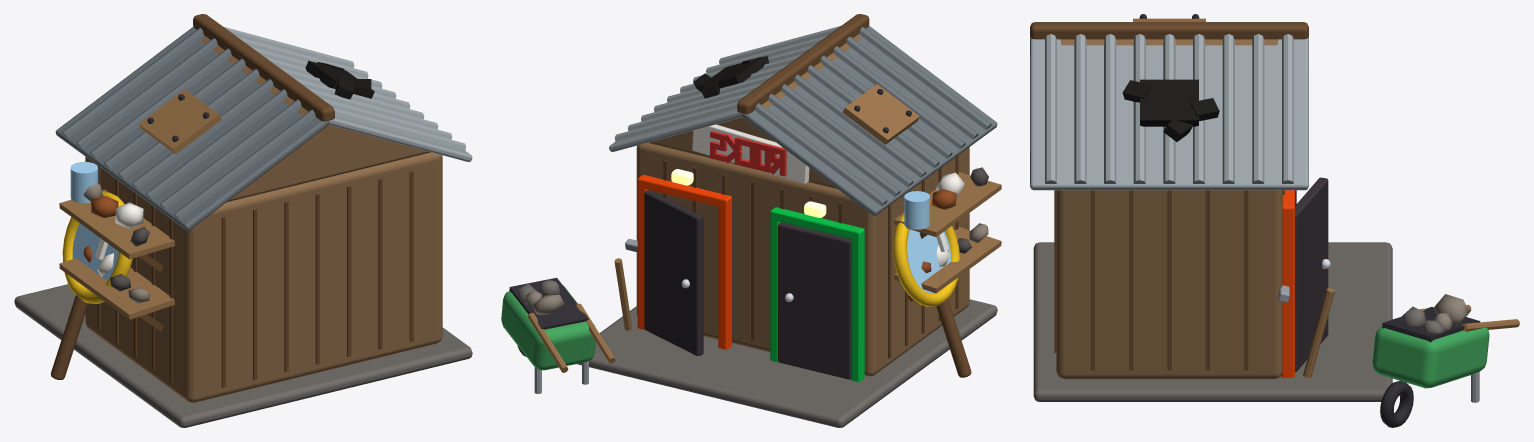
Rendered from building_geology_lab_t1.glb.
3 views of the same model, side by side, from view 1: azimuth 30°, elevation 25°; view 2: azimuth 150°, elevation 25°; view 3: azimuth 270°, elevation 25° (orthographic). The views are drawn at different scales.
Parts seen in each view (by area): view 1: Walls, RoofL.Ridge, RoofL.Sheet, Lot, RoofR.Ridge, Attic, PlanksB.Groove, Roof.Ridge, Patch, Shelf0, Shelf1, PlanksL.Groove (+8 smaller); view 2: Walls, Lot, RoofL.Ridge, RoofL.Sheet, Entry.Leaf, Exit.Leaf, RoofR.Ridge, Barrow.Tub, Roof.Ridge, Patch, Entry.Jamb, Exit.Jamb (+20 smaller); view 3: Walls, RoofR.Sheet, Lot, RoofR.Ridge, Barrow.Tub, Exit.Leaf, Roof.Ridge, PlanksR.Groove, Hole, Exit.Jamb.001, Barrow.Wheel.Tyre, Barrow.Inner (+7 smaller).
Part boxes in pixels (bbox=[...]): Walls: bbox=[85, 152, 442, 402]; RoofL.Ridge: bbox=[62, 28, 315, 219]; RoofL.Sheet: bbox=[55, 26, 329, 230]; Lot: bbox=[14, 284, 472, 427]; RoofR.Ridge: bbox=[223, 26, 466, 150]; Attic: bbox=[201, 37, 430, 201]; PlanksB.Groove: bbox=[221, 170, 413, 387]; Roof.Ridge: bbox=[193, 14, 334, 121]; Patch: bbox=[139, 89, 221, 154]; Shelf0: bbox=[59, 258, 174, 319]; Shelf1: bbox=[59, 189, 174, 259]; PlanksL.Groove: bbox=[97, 165, 172, 383]; Walls: bbox=[636, 143, 969, 376]; Lot: bbox=[577, 299, 997, 427]; RoofL.Ridge: bbox=[755, 27, 991, 206]; RoofL.Sheet: bbox=[742, 26, 997, 215]; Entry.Leaf: bbox=[778, 222, 851, 379]; Exit.Leaf: bbox=[644, 190, 703, 355]; RoofR.Ridge: bbox=[614, 26, 840, 141]; Barrow.Tub: bbox=[501, 285, 595, 370]; Roof.Ridge: bbox=[737, 14, 869, 114]; Patch: bbox=[842, 84, 919, 144]; Entry.Jamb: bbox=[851, 236, 864, 381]; Exit.Jamb: bbox=[718, 204, 731, 349]; Walls: bbox=[1056, 190, 1282, 379]; RoofR.Sheet: bbox=[1030, 37, 1308, 190]; Lot: bbox=[1033, 242, 1392, 401]; RoofR.Ridge: bbox=[1045, 34, 1293, 183]; Barrow.Tub: bbox=[1372, 327, 1489, 387]; Exit.Leaf: bbox=[1295, 177, 1328, 372]; Roof.Ridge: bbox=[1030, 22, 1308, 39]; PlanksR.Groove: bbox=[1090, 190, 1248, 370]; Hole: bbox=[1140, 79, 1198, 126]; Exit.Jamb.001: bbox=[1281, 215, 1294, 377]; Barrow.Wheel.Tyre: bbox=[1380, 381, 1413, 427]; Barrow.Inner: bbox=[1382, 307, 1480, 342].
Bounding box in the file's own units: 2.83 × 1.93 × 2.81.
